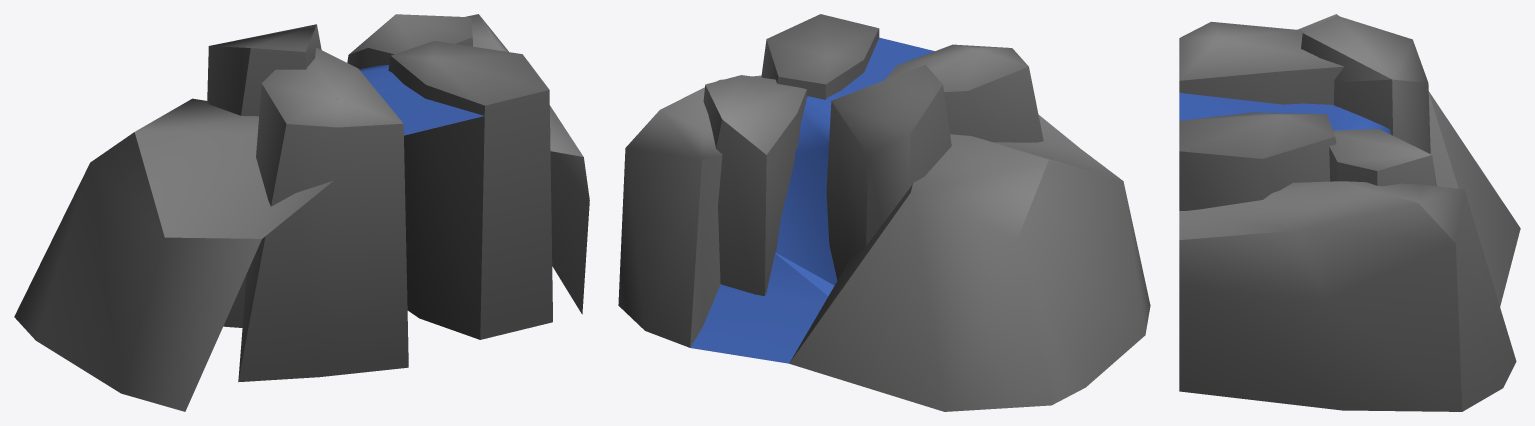
File: waterfall_small.glb
3 views of the same model, side by side, from view 1: azimuth 30°, elevation 25°; view 2: azimuth 150°, elevation 25°; view 3: azimuth 270°, elevation 25° (orthographic). The views are drawn at different scales.
Parts seen in each view (by area): view 1: Object_2; view 2: Object_2; view 3: Object_2.
Part boxes in pixels (<box>): Object_2: <box>14,14,589,411</box>; Object_2: <box>618,14,1150,411</box>; Object_2: <box>1179,14,1520,411</box>.
Bounding box in the file's own units: 8.65 × 4.79 × 5.53.
Materials: 1 (1 with a texture image).
